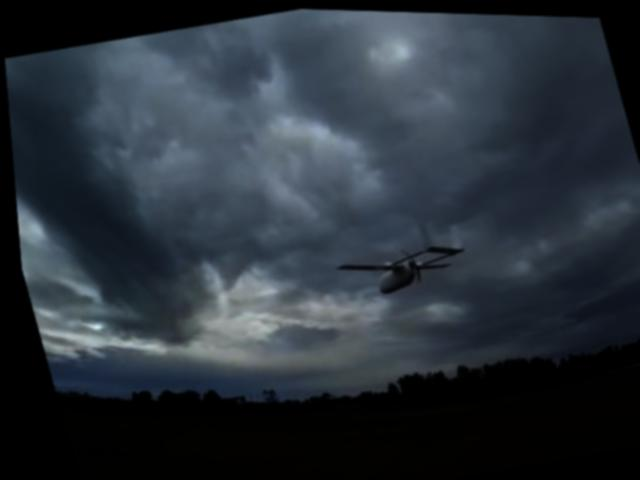uav: (320, 208, 472, 305)
